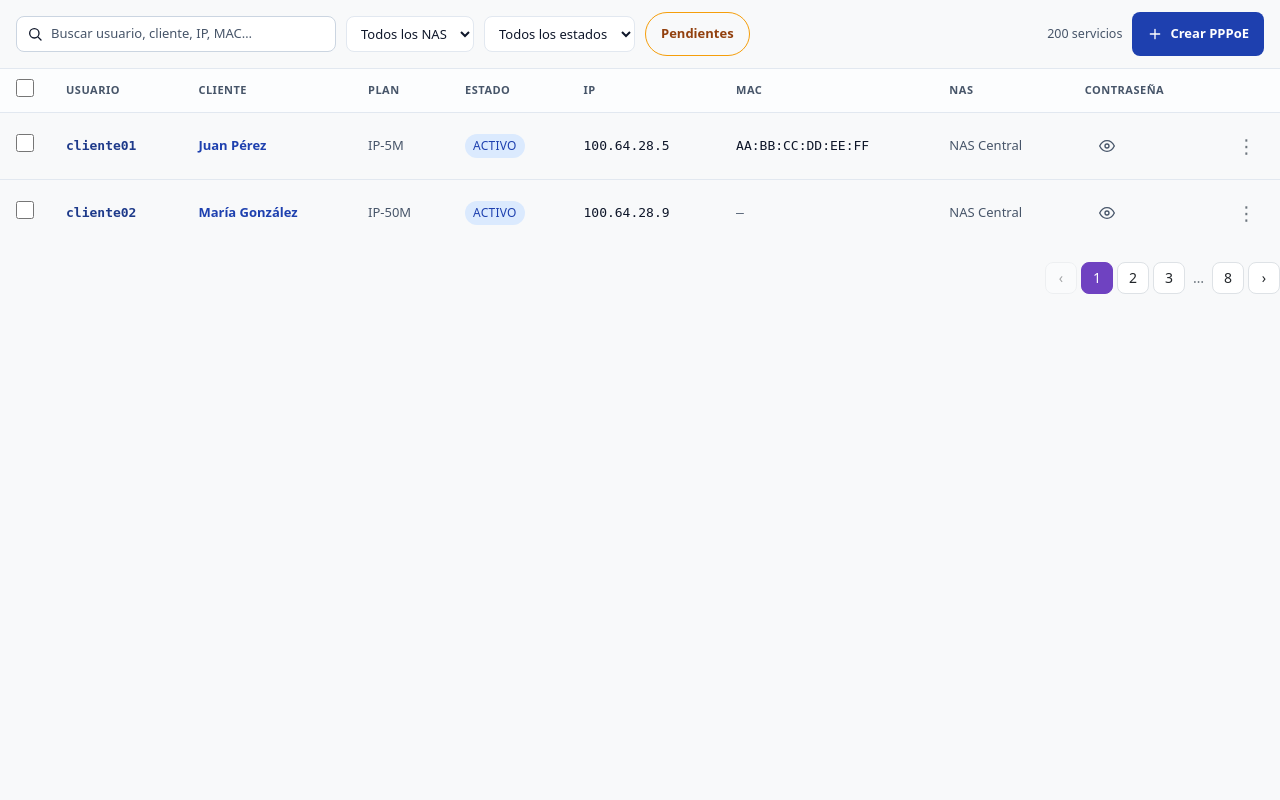
Test case: PppoeManagementTab bulk — W1 REEMPLAZADO: 201 ya NO bloquea, se envía en lotes de 25 › con 200 seleccionados (borde inferior del checkbox): "Cambiar plan" habilitado, aviso de 8 lotes de 25 pero SIN checkbox (fix: el aviso de lotes ya no depende d
Select "NAS Central" in the dropdown named "filtrar por nas" at [410, 34], box [346,16,474,52]
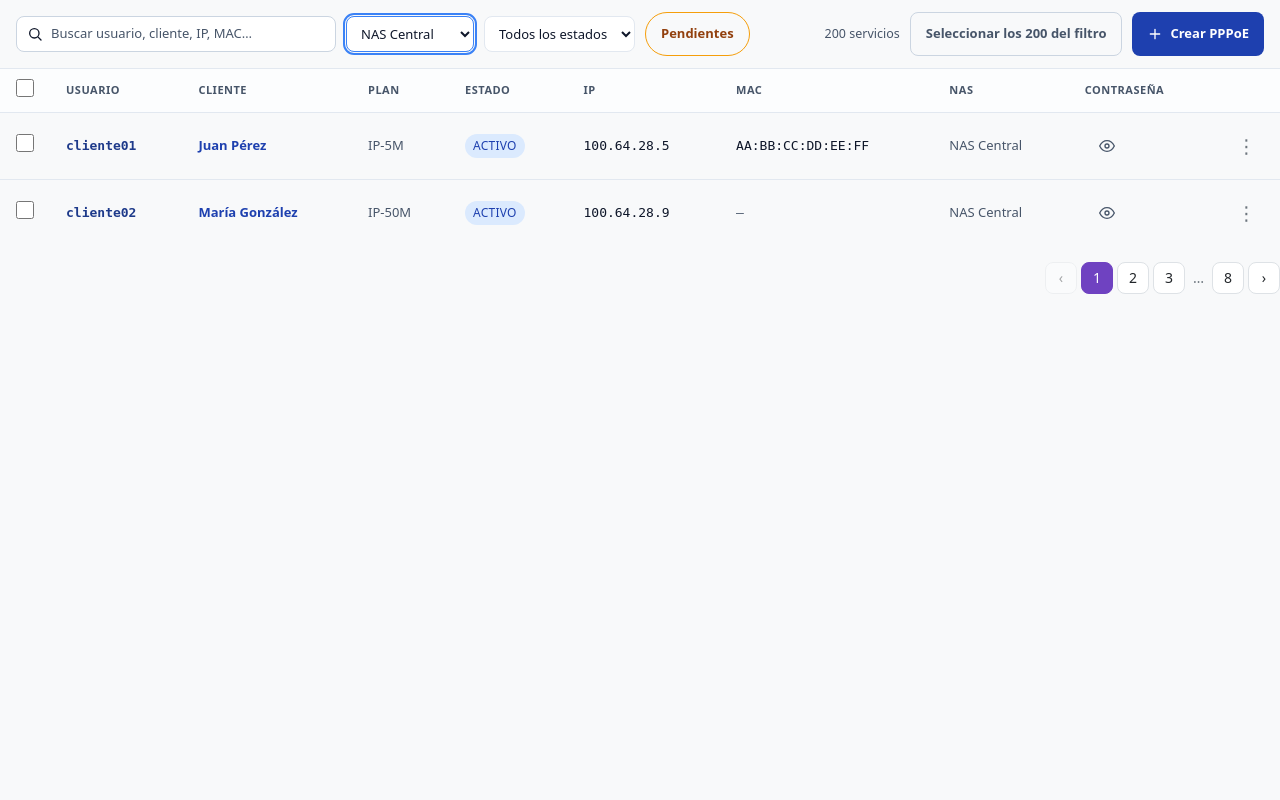
Click the button "Seleccionar los 200 del filtro" at [1016, 34], box [910,12,1122,56]
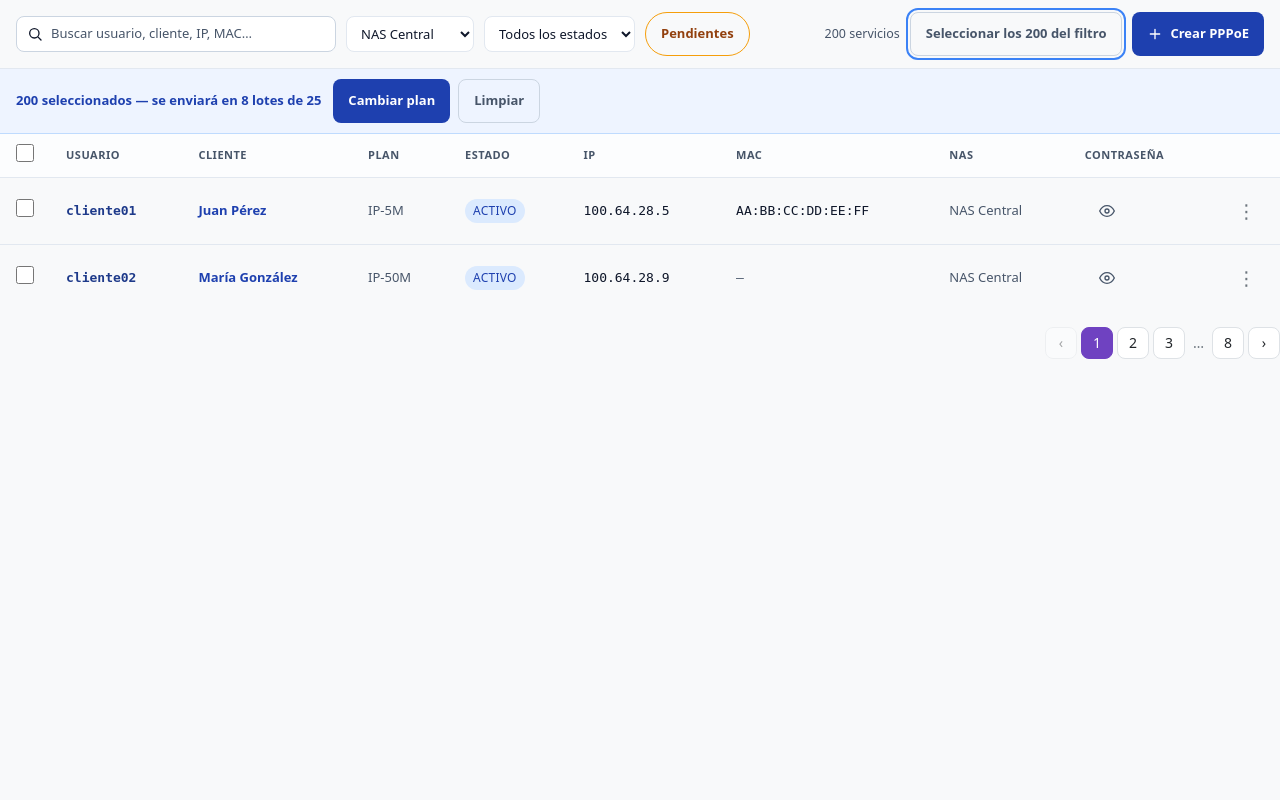
Result: the text "200 seleccionados — se enviará en 8 lotes de 25" is shown at [16,91,321,111]
Click the button "Cambiar plan" at [392, 101], box [333,79,450,123]
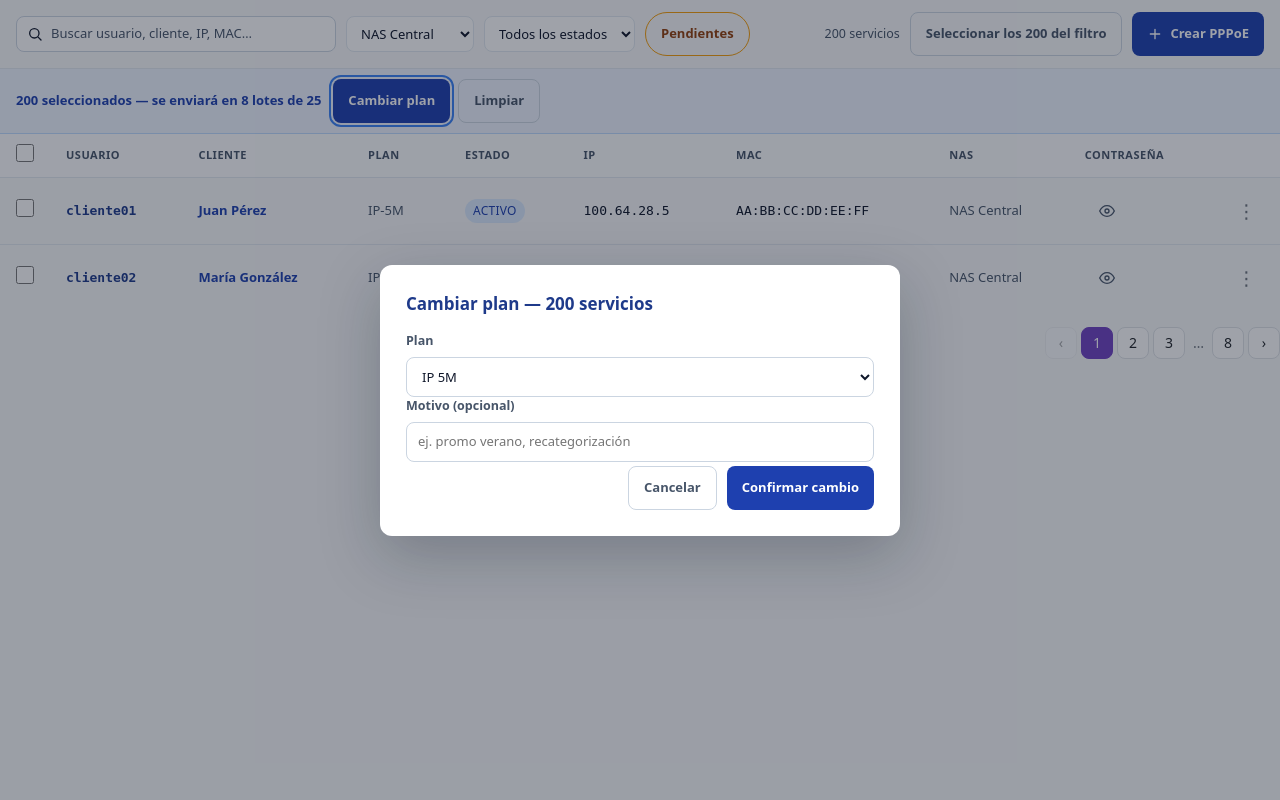
Result: the dialog is shown at [380,264,900,536]
